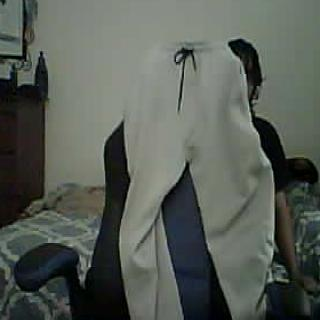White Sweatpants: (123, 39, 274, 320)
